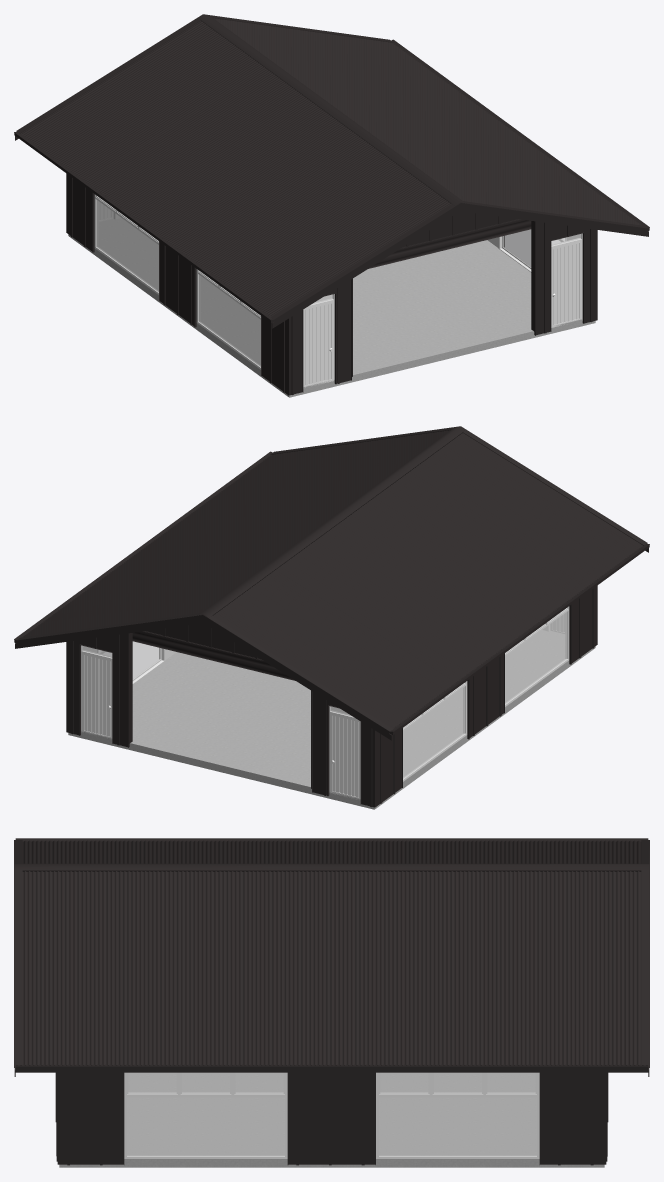
Rendered from industrial_garage.glb.
The picture shows the model from 3 angles, top to bottom: view 1: azimuth 30°, elevation 25°; view 2: azimuth 150°, elevation 25°; view 3: azimuth 270°, elevation 25°; orthographic projection. The views are drawn at different scales.
Parts seen in each view (by area): view 1: skfb_offset; view 2: skfb_offset; view 3: skfb_offset.
Boxes of the visible parts, bbox=[...] form: skfb_offset: bbox=[14, 14, 649, 397]; skfb_offset: bbox=[14, 426, 649, 809]; skfb_offset: bbox=[14, 838, 649, 1167].
Size of the model in its own units: 9.91 by 4.27 by 11.66.
11 materials, 1 textured.
